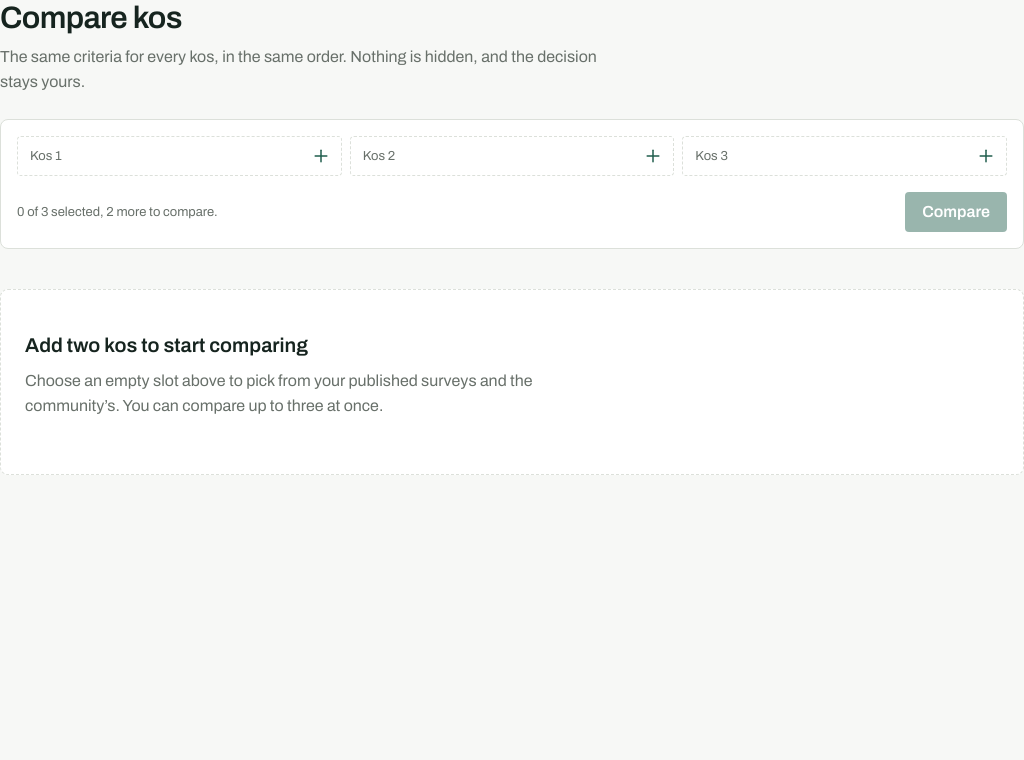
the compare page › compares straight from the picker once two kos are added
Click the button with aria-label "Add kos 1" at (46, 156), box [18,137,341,175]
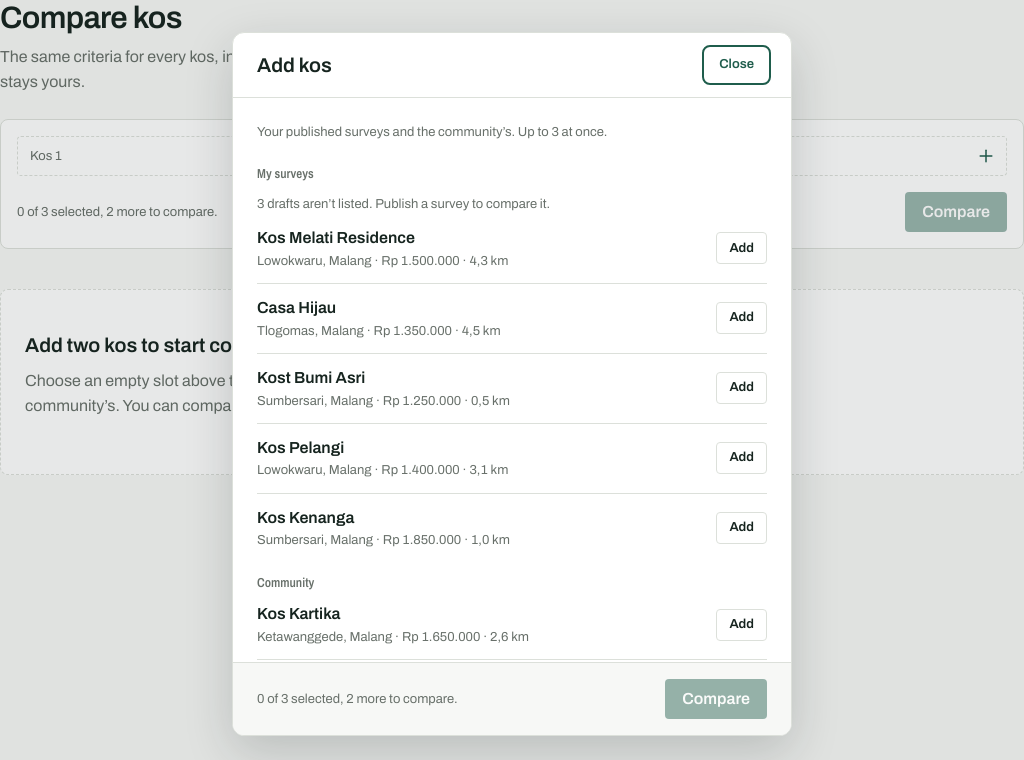
Click the button "Add" in the row of "Kos Melati Residence" at (742, 248), box [716,232,767,264]
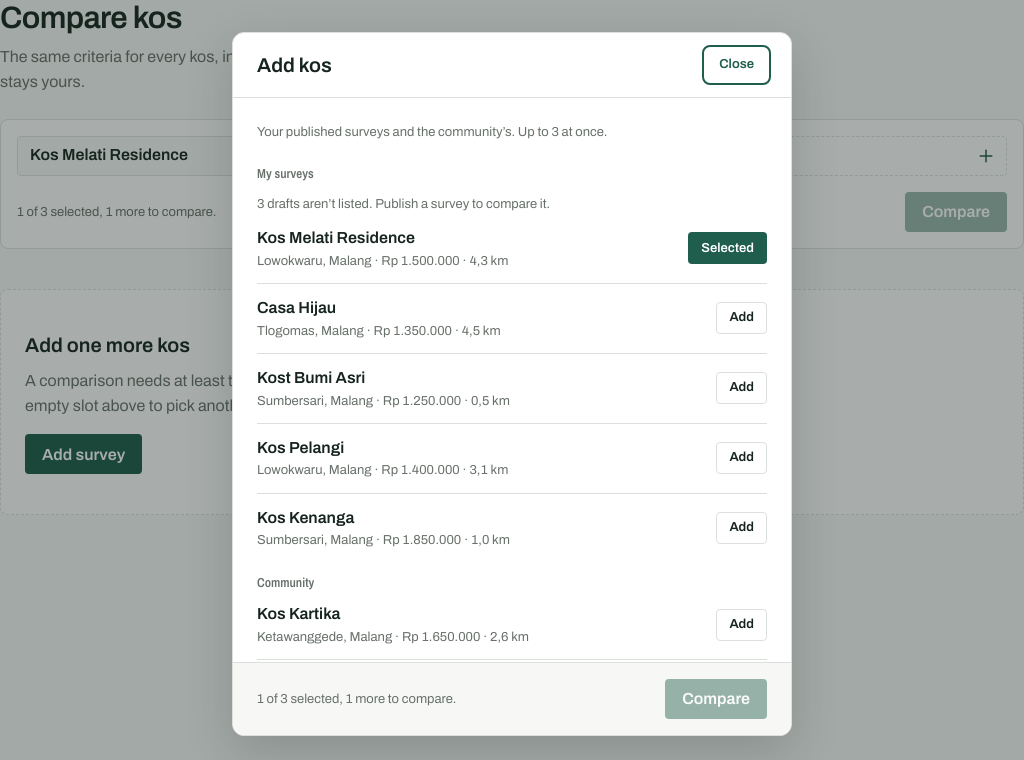
Now the button "Compare" is disabled, box [665,679,767,719]
Click the button "Add" in the row of "Casa Hijau" at (742, 318), box [716,302,767,334]
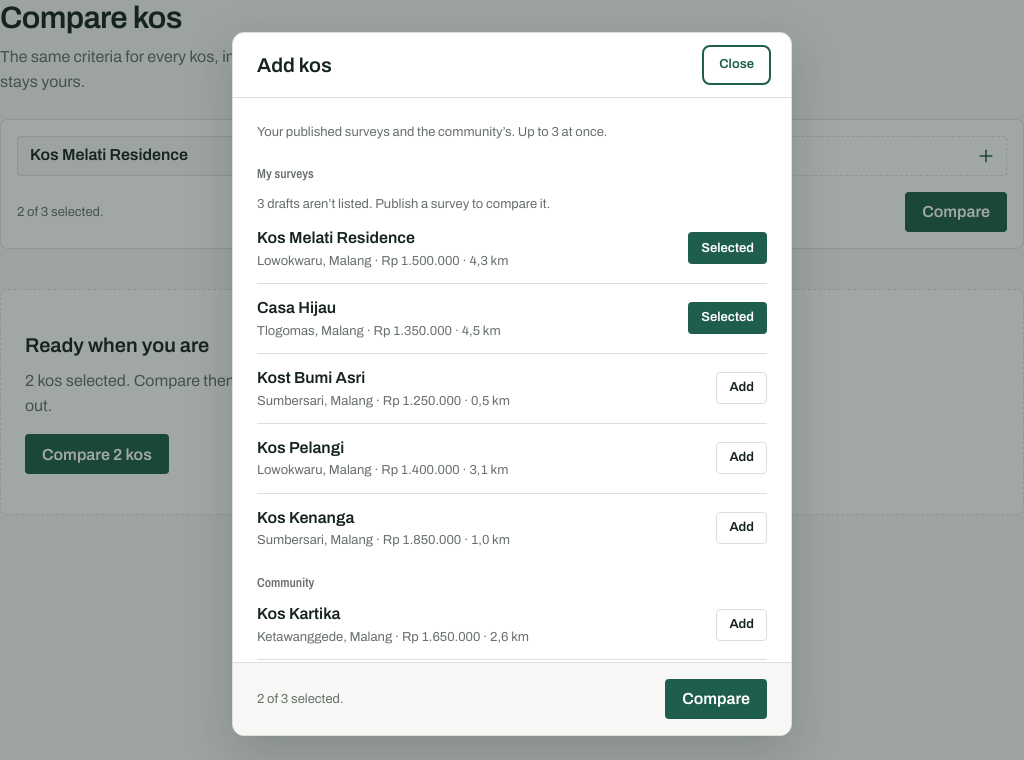
Now the button "Compare" is enabled
Click the button "Compare" at (716, 699), box [665,679,767,719]
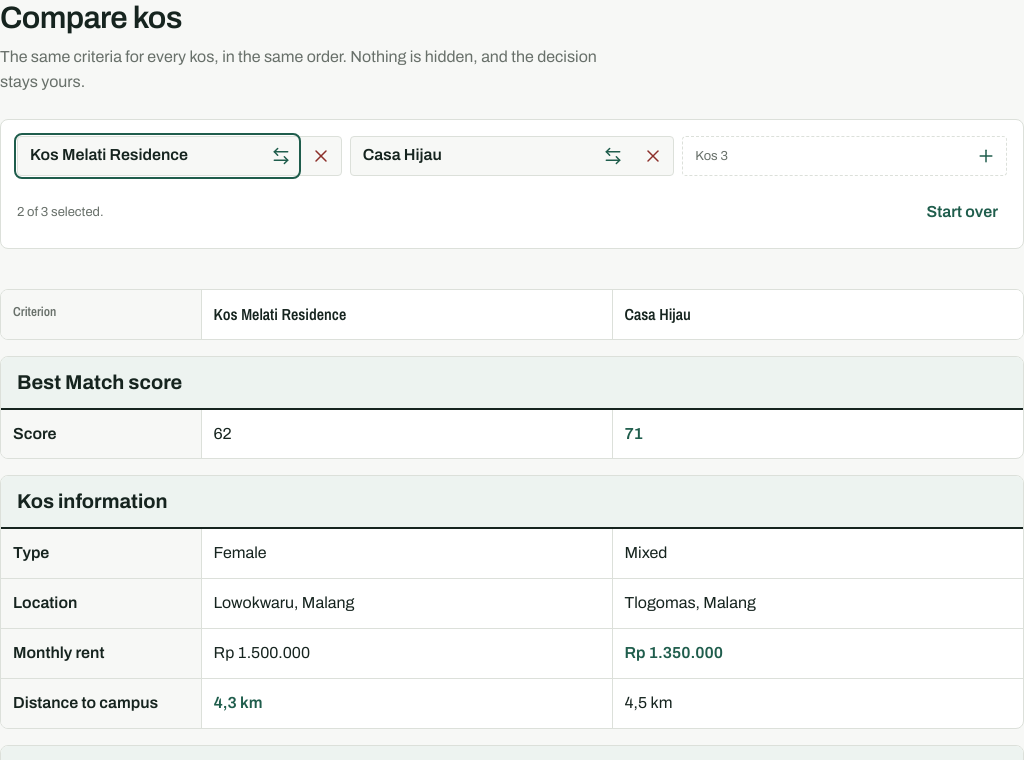
Now the table "Criterion Kos Melati Residence Casa Hijau" is shown, box [1,290,1023,339]
